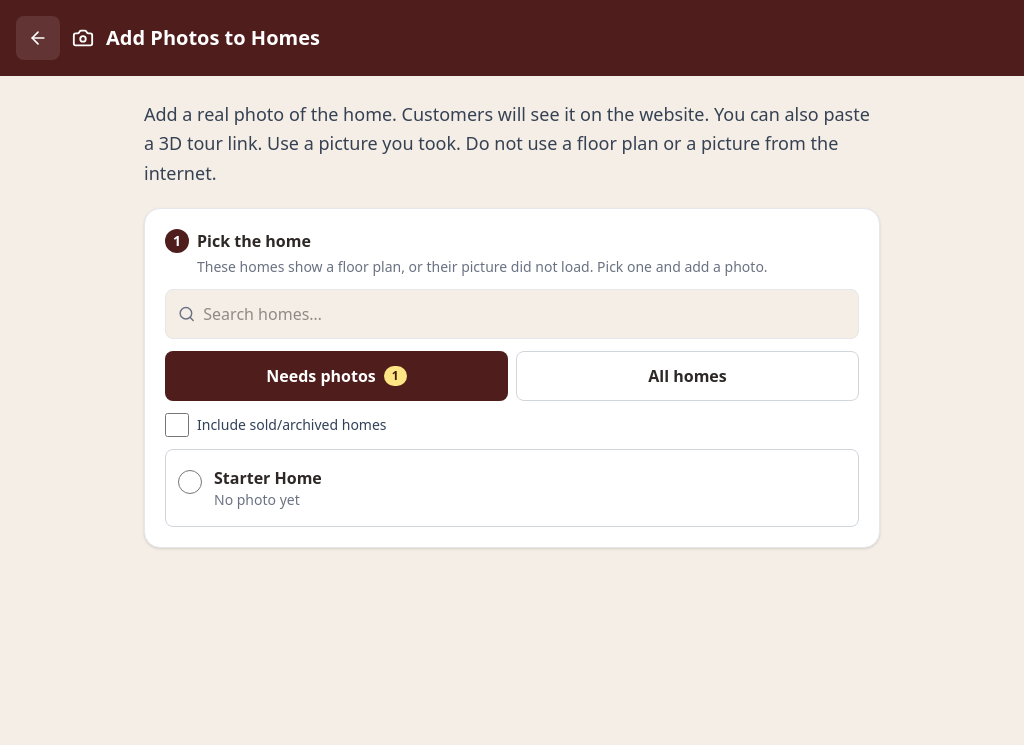
Test: Photo Manager 3D tour link › mentions an existing catalog tour without offering remove
Click the radio button labelled "Starter Home No photo yet" at (190,482), box [178,470,202,494]
(page scrolled)
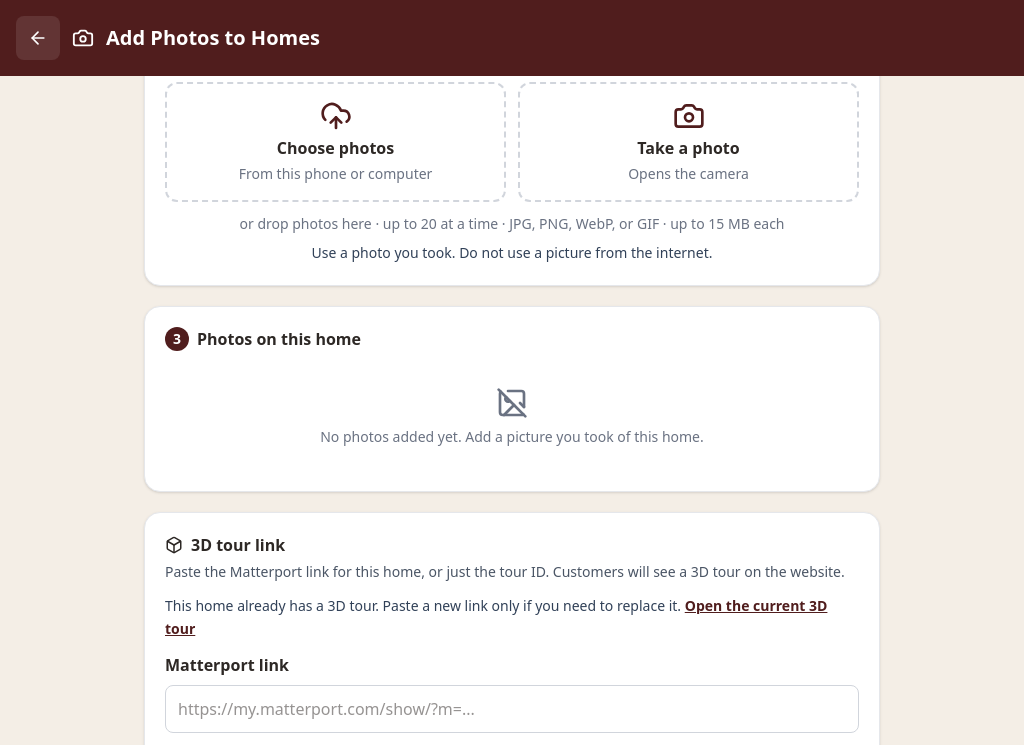
Result: the text "already has a 3D tour" is shown at [165,596,681,615]
